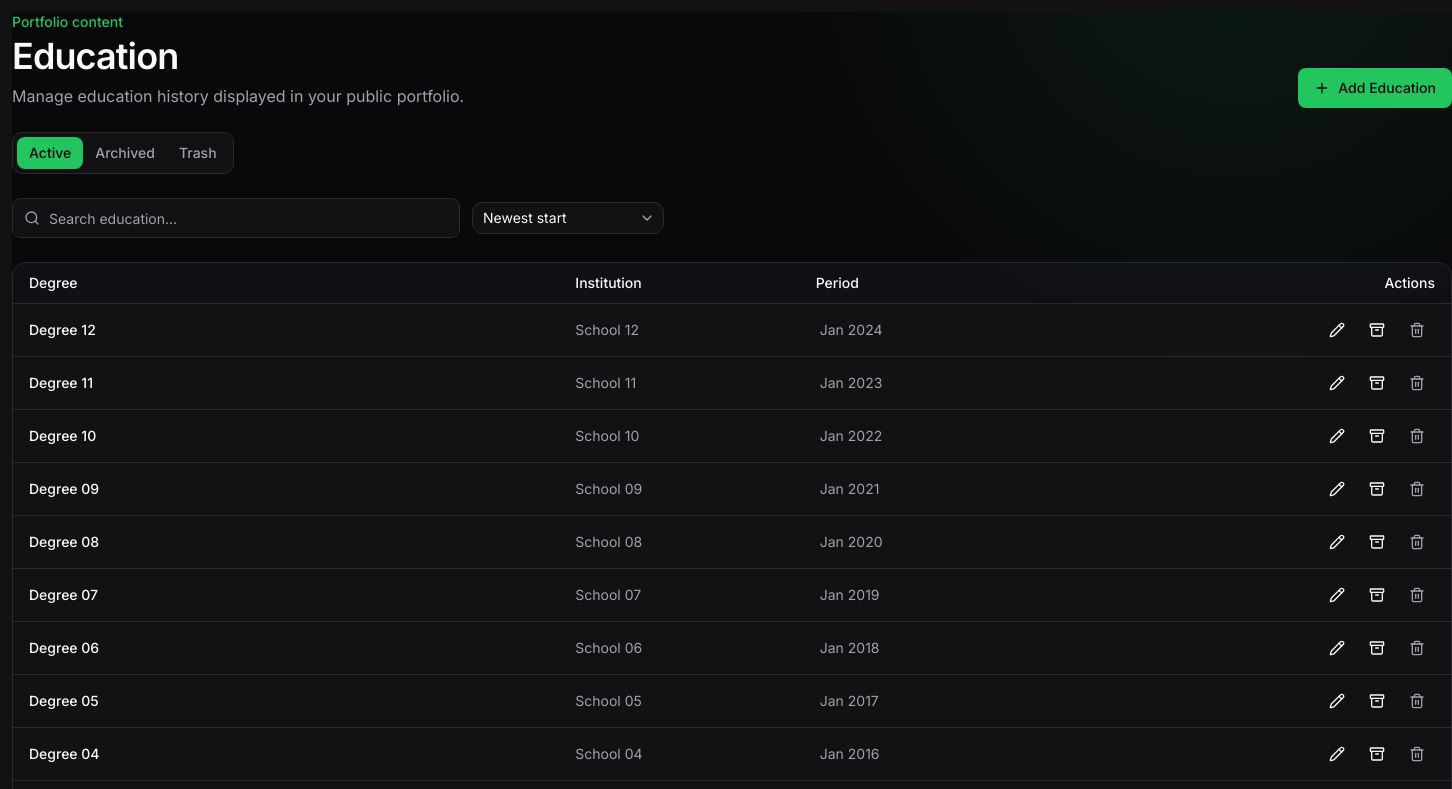
it: EducationView › sorts by oldest start and writes ?sort=oldest
Click the dropdown named "Sort" at (568, 218), box [472,202,664,234]
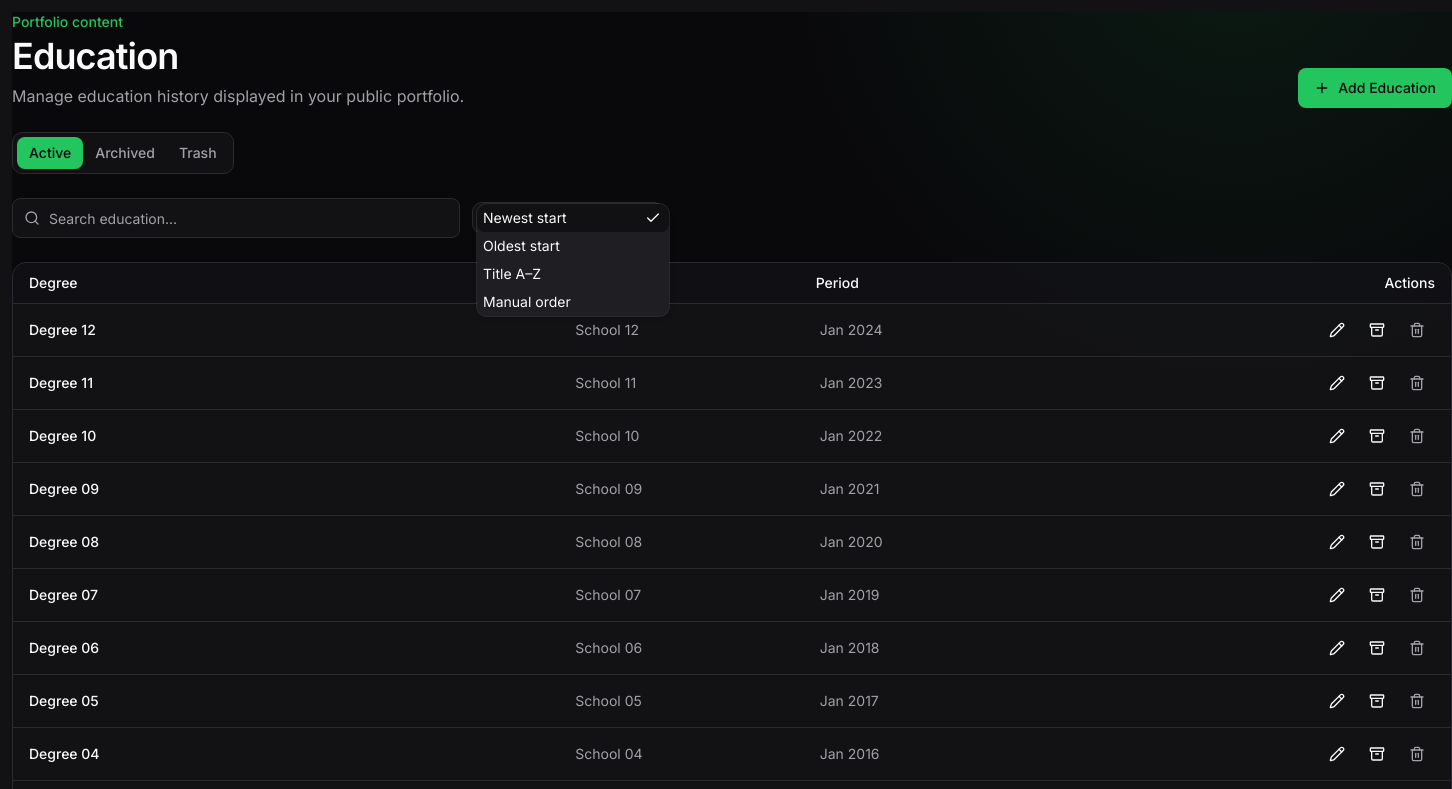
Click the option "Oldest start" at (521, 246), box [483,237,560,254]
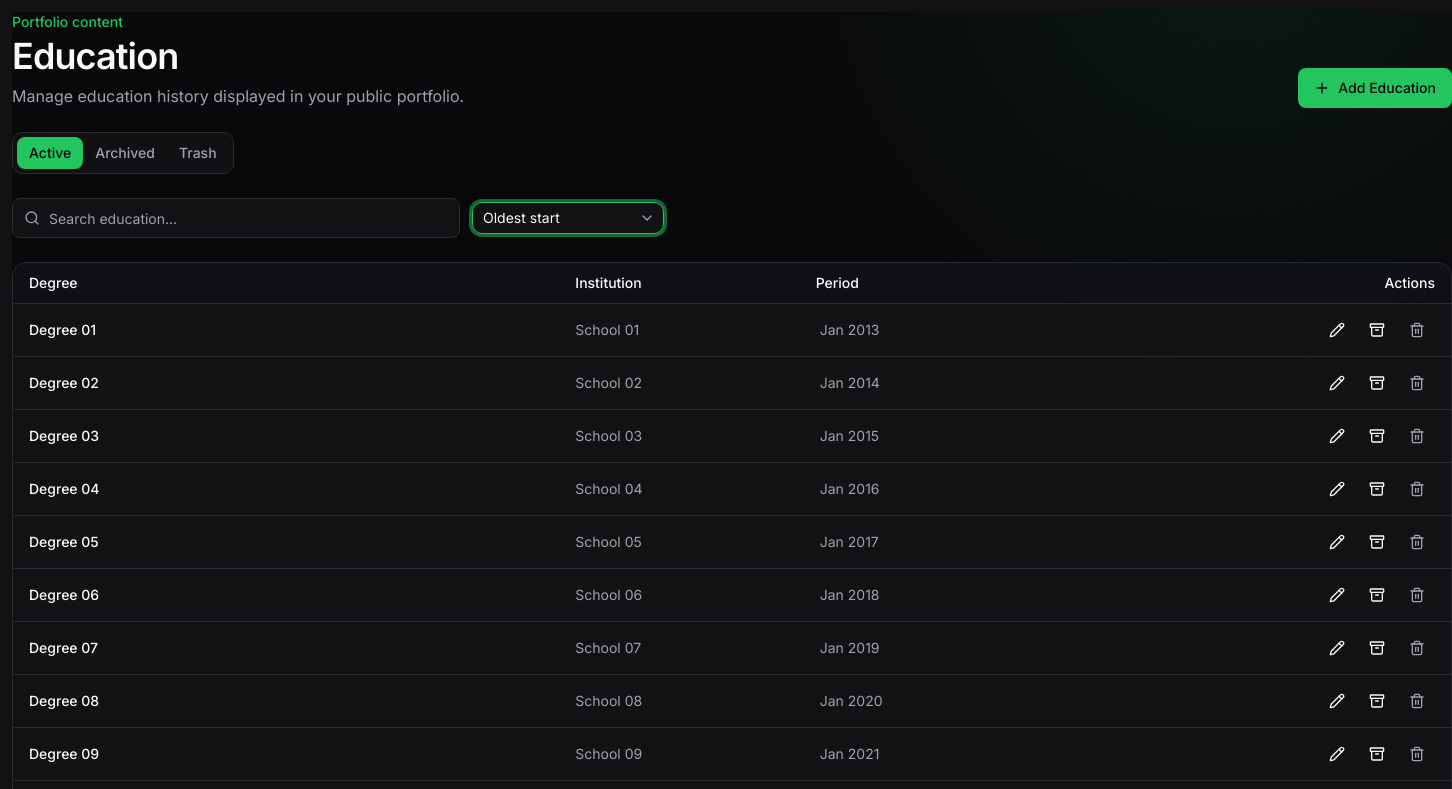
Now the text "Degree 01" is shown, box [13,303,567,356]
